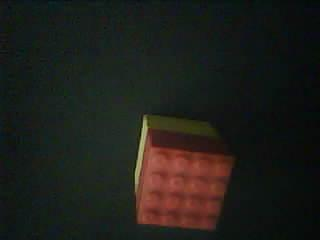lego: (135, 113, 235, 229)
